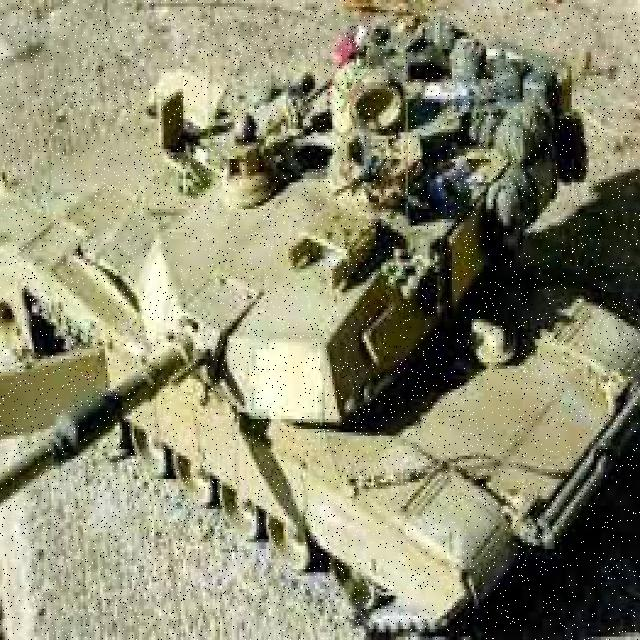MIL_MBT: (1, 11, 639, 635)
